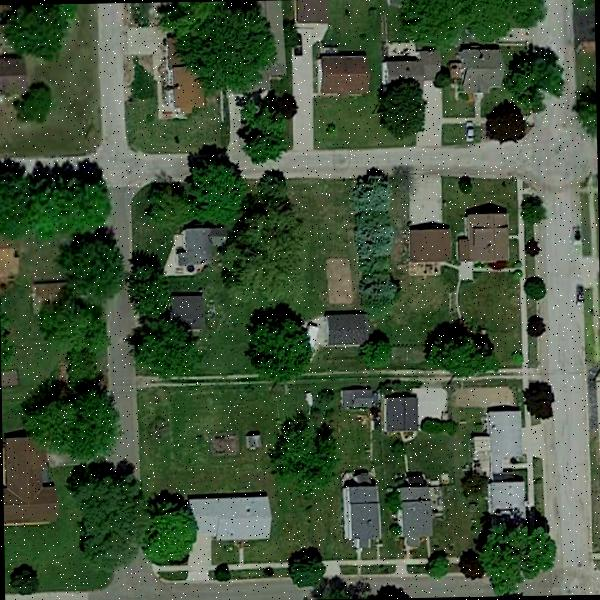Buildings: (2, 444, 62, 522), (486, 409, 524, 513), (146, 58, 198, 119), (200, 496, 272, 534), (461, 215, 509, 266), (313, 52, 368, 92), (316, 308, 365, 347), (169, 234, 219, 271), (460, 50, 501, 92), (386, 56, 440, 87), (406, 488, 433, 537), (170, 294, 200, 332), (353, 491, 374, 540), (0, 52, 25, 87), (386, 400, 416, 424)
